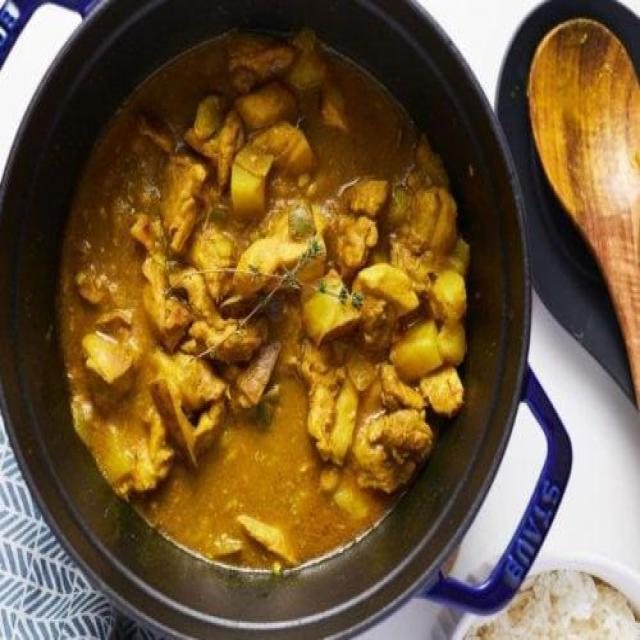chicken: (66, 26, 468, 572)
